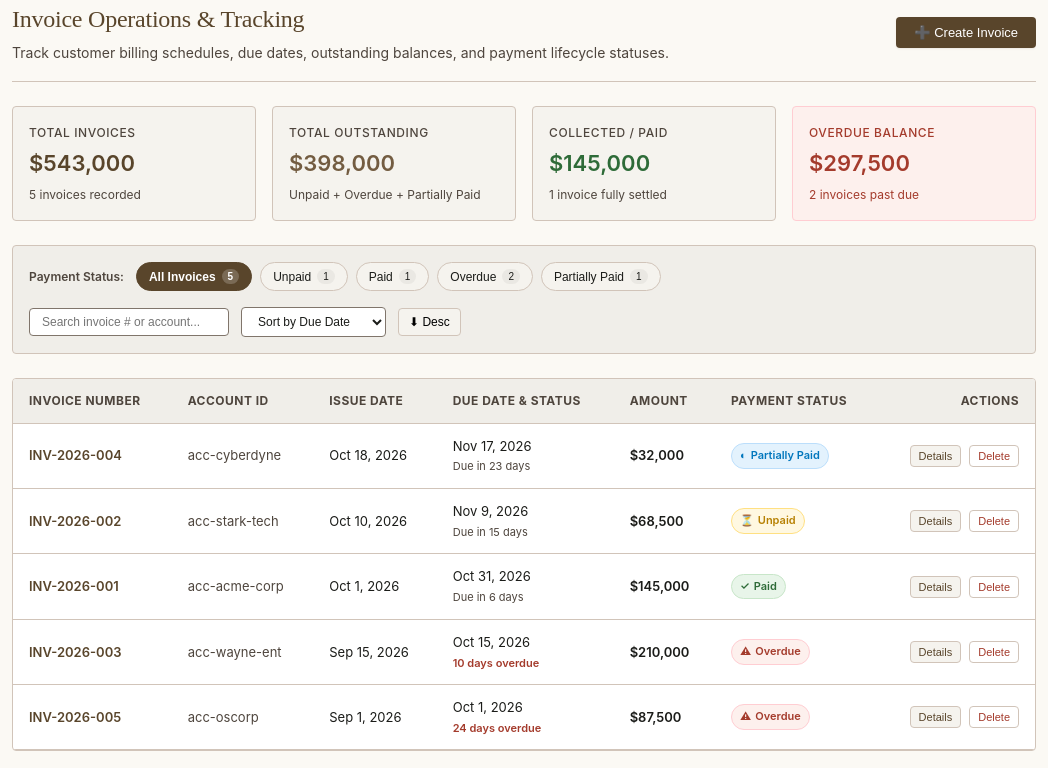
InvoiceListTable Component & Helper Utilities › InvoiceListTable Component Rendering & Interactions › filters invoices by search query text
Type "acc-stark-tech" into the field with test id "invoice-search-input".
click(129, 322); type("acc-stark-tech")  # box [29,308,229,336]
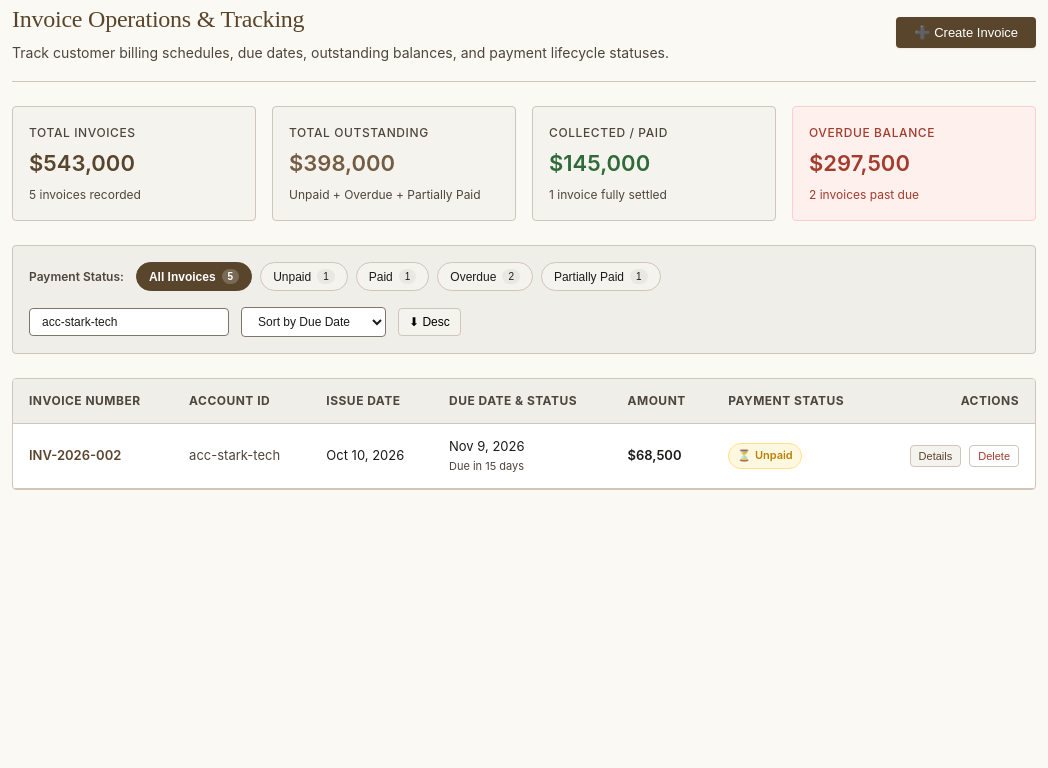
Check: the text "INV-2026-002" is shown, box [13,423,173,488]
Check: the text "INV-2026-001" is gone
